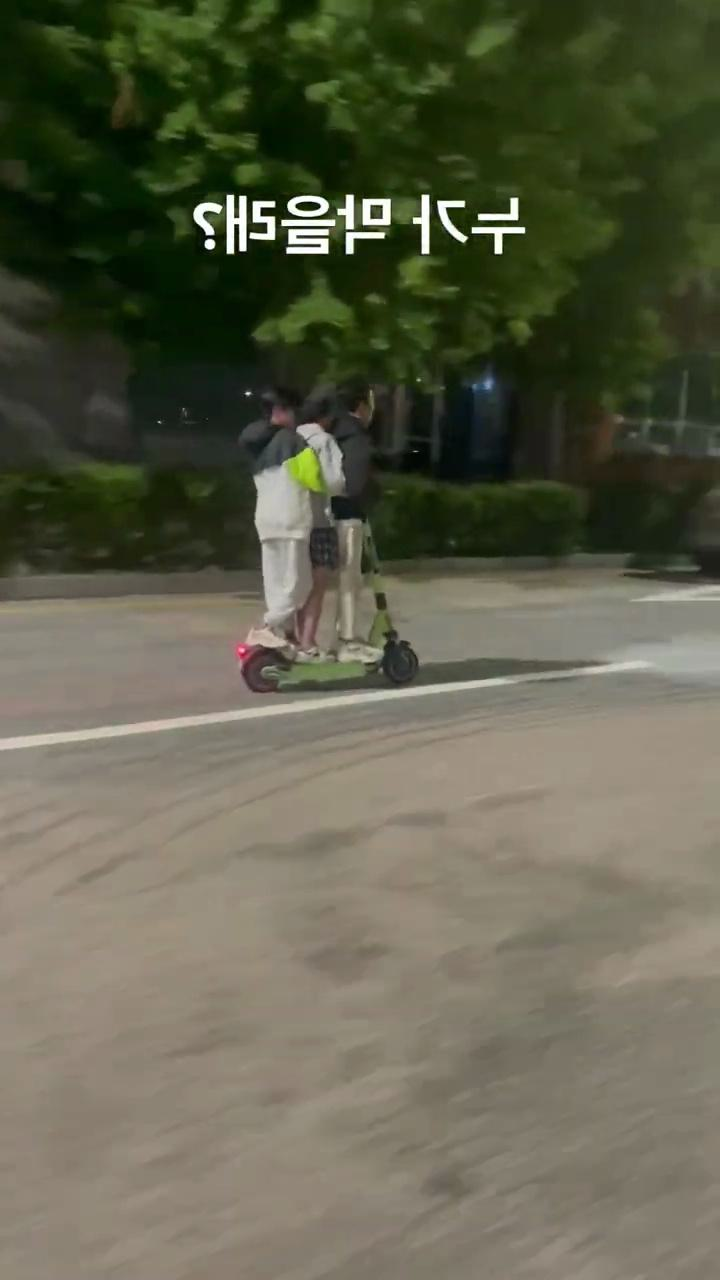multiple: (231, 369, 426, 697)
